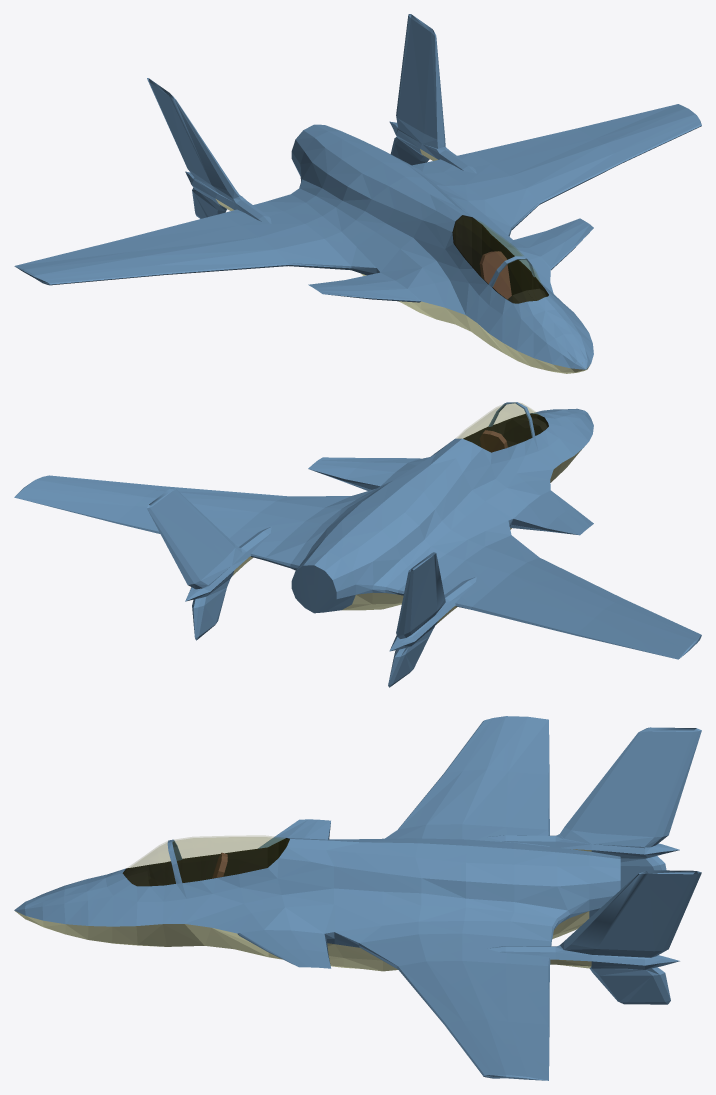
Rendered from aircraft_8_damage.glb.
3 renders of one model, top to bottom at view 1: azimuth 30°, elevation 25°; view 2: azimuth 150°, elevation 25°; view 3: azimuth 270°, elevation 25°, orthographic. The views are drawn at different scales.
Visible parts, largest first — view 1: fuselage.001, TailBreakaway, WingBreakawayRight, WingBreakawayLeft, canopy glass, cockpit interior; view 2: fuselage.001, TailBreakaway, WingBreakawayRight, WingBreakawayLeft, canopy glass, cockpit interior; view 3: fuselage.001, TailBreakaway, WingBreakawayLeft, WingBreakawayRight, canopy glass, cockpit interior.
Part boxes in pixels (<box>): fuselage.001: <box>202,120,593,373</box>; TailBreakaway: <box>147,14,443,218</box>; WingBreakawayRight: <box>14,218,265,285</box>; WingBreakawayLeft: <box>491,104,701,196</box>; canopy glass: <box>454,216,547,302</box>; cockpit interior: <box>452,215,548,303</box>; fuselage.001: <box>218,408,593,620</box>; TailBreakaway: <box>147,488,443,687</box>; WingBreakawayRight: <box>490,565,701,659</box>; WingBreakawayLeft: <box>14,475,264,533</box>; canopy glass: <box>457,403,547,451</box>; cockpit interior: <box>463,413,548,452</box>; fuselage.001: <box>14,809,578,978</box>; TailBreakaway: <box>578,727,701,1004</box>; WingBreakawayLeft: <box>405,971,549,1080</box>; WingBreakawayRight: <box>406,716,549,821</box>; canopy glass: <box>123,836,289,885</box>; cockpit interior: <box>122,838,289,886</box>.
Size of the model in its own units: 13.79 by 2.91 by 11.09.
